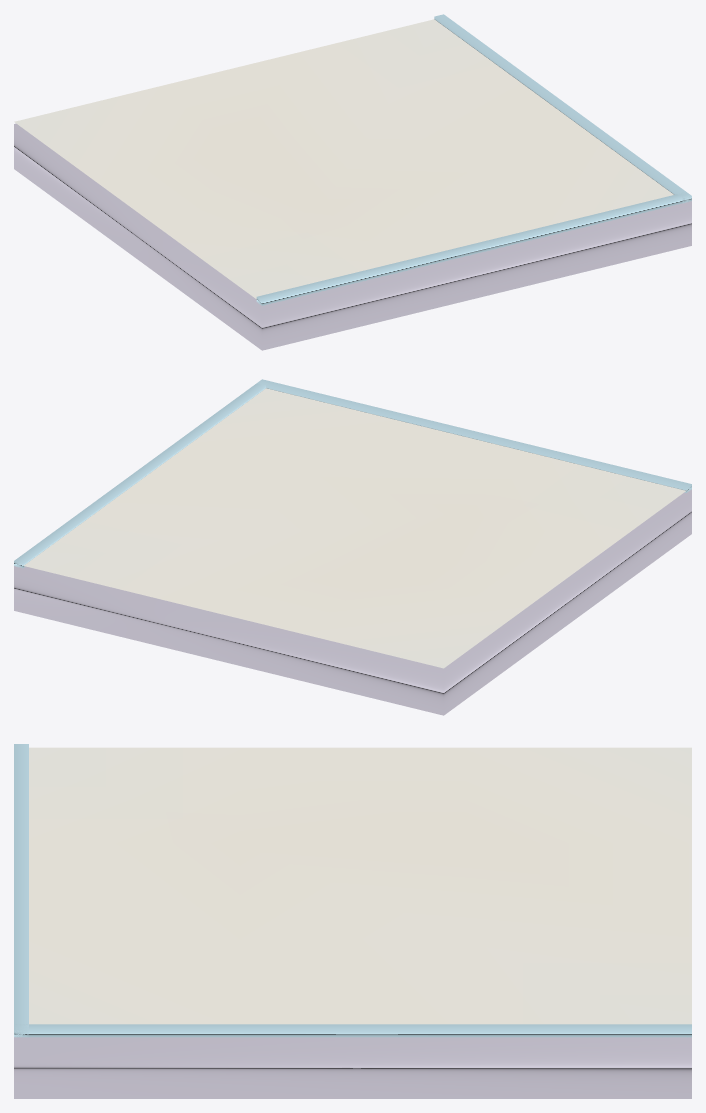
File: floor_deck.glb
3 views of the same model, one above another, from view 1: azimuth 30°, elevation 25°; view 2: azimuth 150°, elevation 25°; view 3: azimuth 270°, elevation 25° (orthographic). The views are drawn at different scales.
Visible parts, largest first — view 1: Tile.001; view 2: Tile.001; view 3: Tile.001.
Part boxes in pixels (x1=…): Tile.001: x1=14, y1=14, x2=691, y2=350; Tile.001: x1=14, y1=379, x2=691, y2=715; Tile.001: x1=14, y1=744, x2=691, y2=1098.
Size of the model in its own units: 1 by 0.111 by 1.
